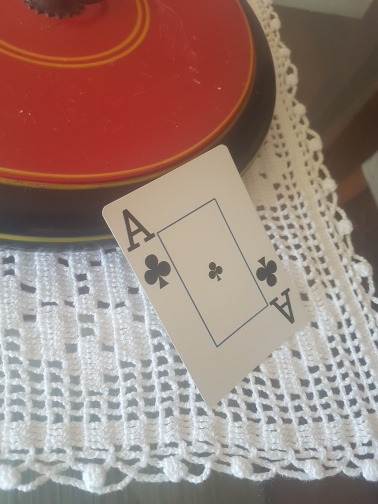ace: (99, 144, 307, 406)
